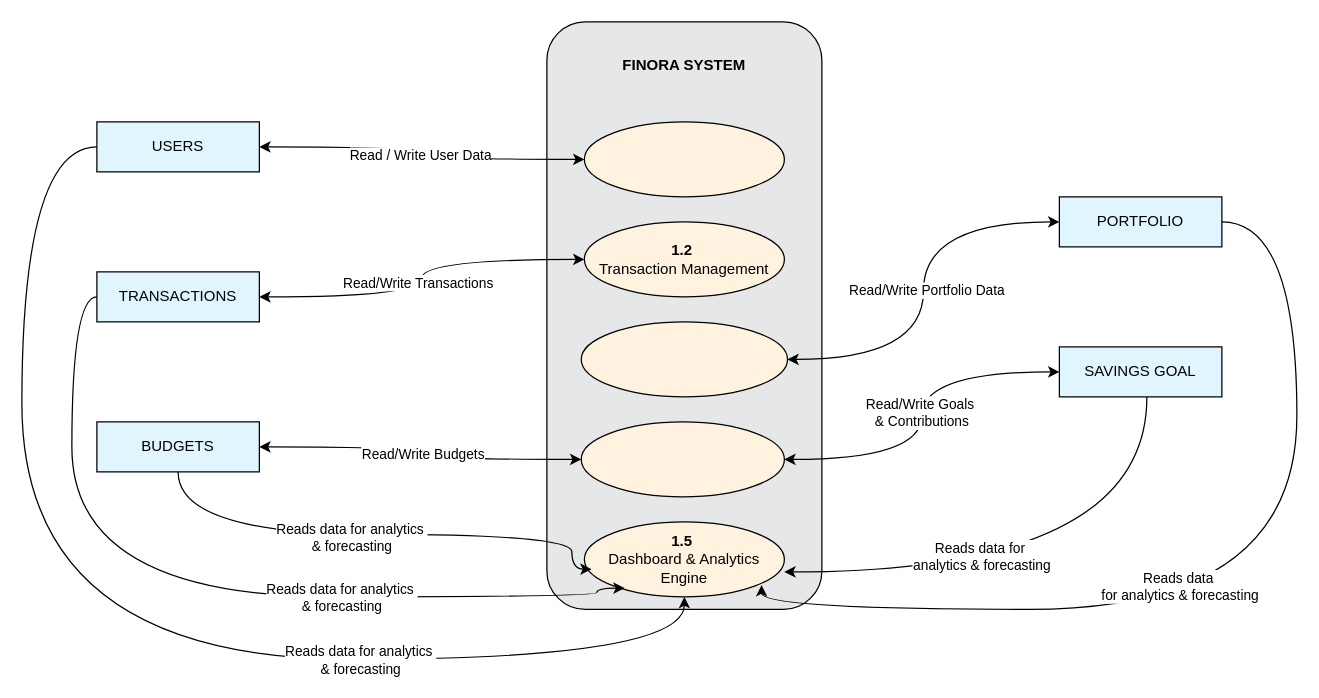
Image size: 1319x698. Some labels were removed from this diagram. The box of each missing label's shape, as (x1, y1, x2, y2) in pixels:
1.1 User Authentication: (583, 121, 784, 197)
1.3 Portfolio Management: (580, 321, 788, 397)
1.4 Savings & Budget Management: (580, 421, 784, 497)
